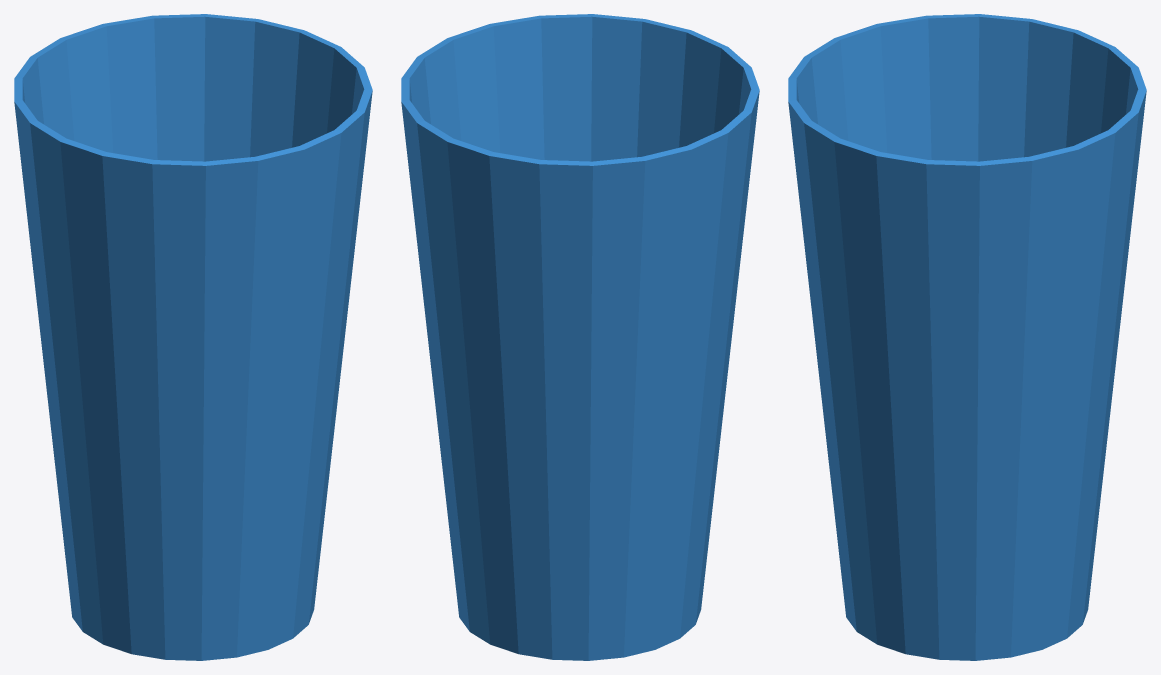
The model's file is cup.fbx.
3 views of the same model, side by side, from view 1: azimuth 30°, elevation 25°; view 2: azimuth 150°, elevation 25°; view 3: azimuth 270°, elevation 25° (orthographic).
Parts seen in each view (by area): view 1: Cylinder; view 2: Cylinder; view 3: Cylinder.
Part boxes in pixels (bbox=[...]): Cylinder: bbox=[14, 14, 372, 660]; Cylinder: bbox=[401, 14, 759, 660]; Cylinder: bbox=[788, 14, 1146, 660].
Size of the model in its own units: 70.75 by 113 by 70.55.
